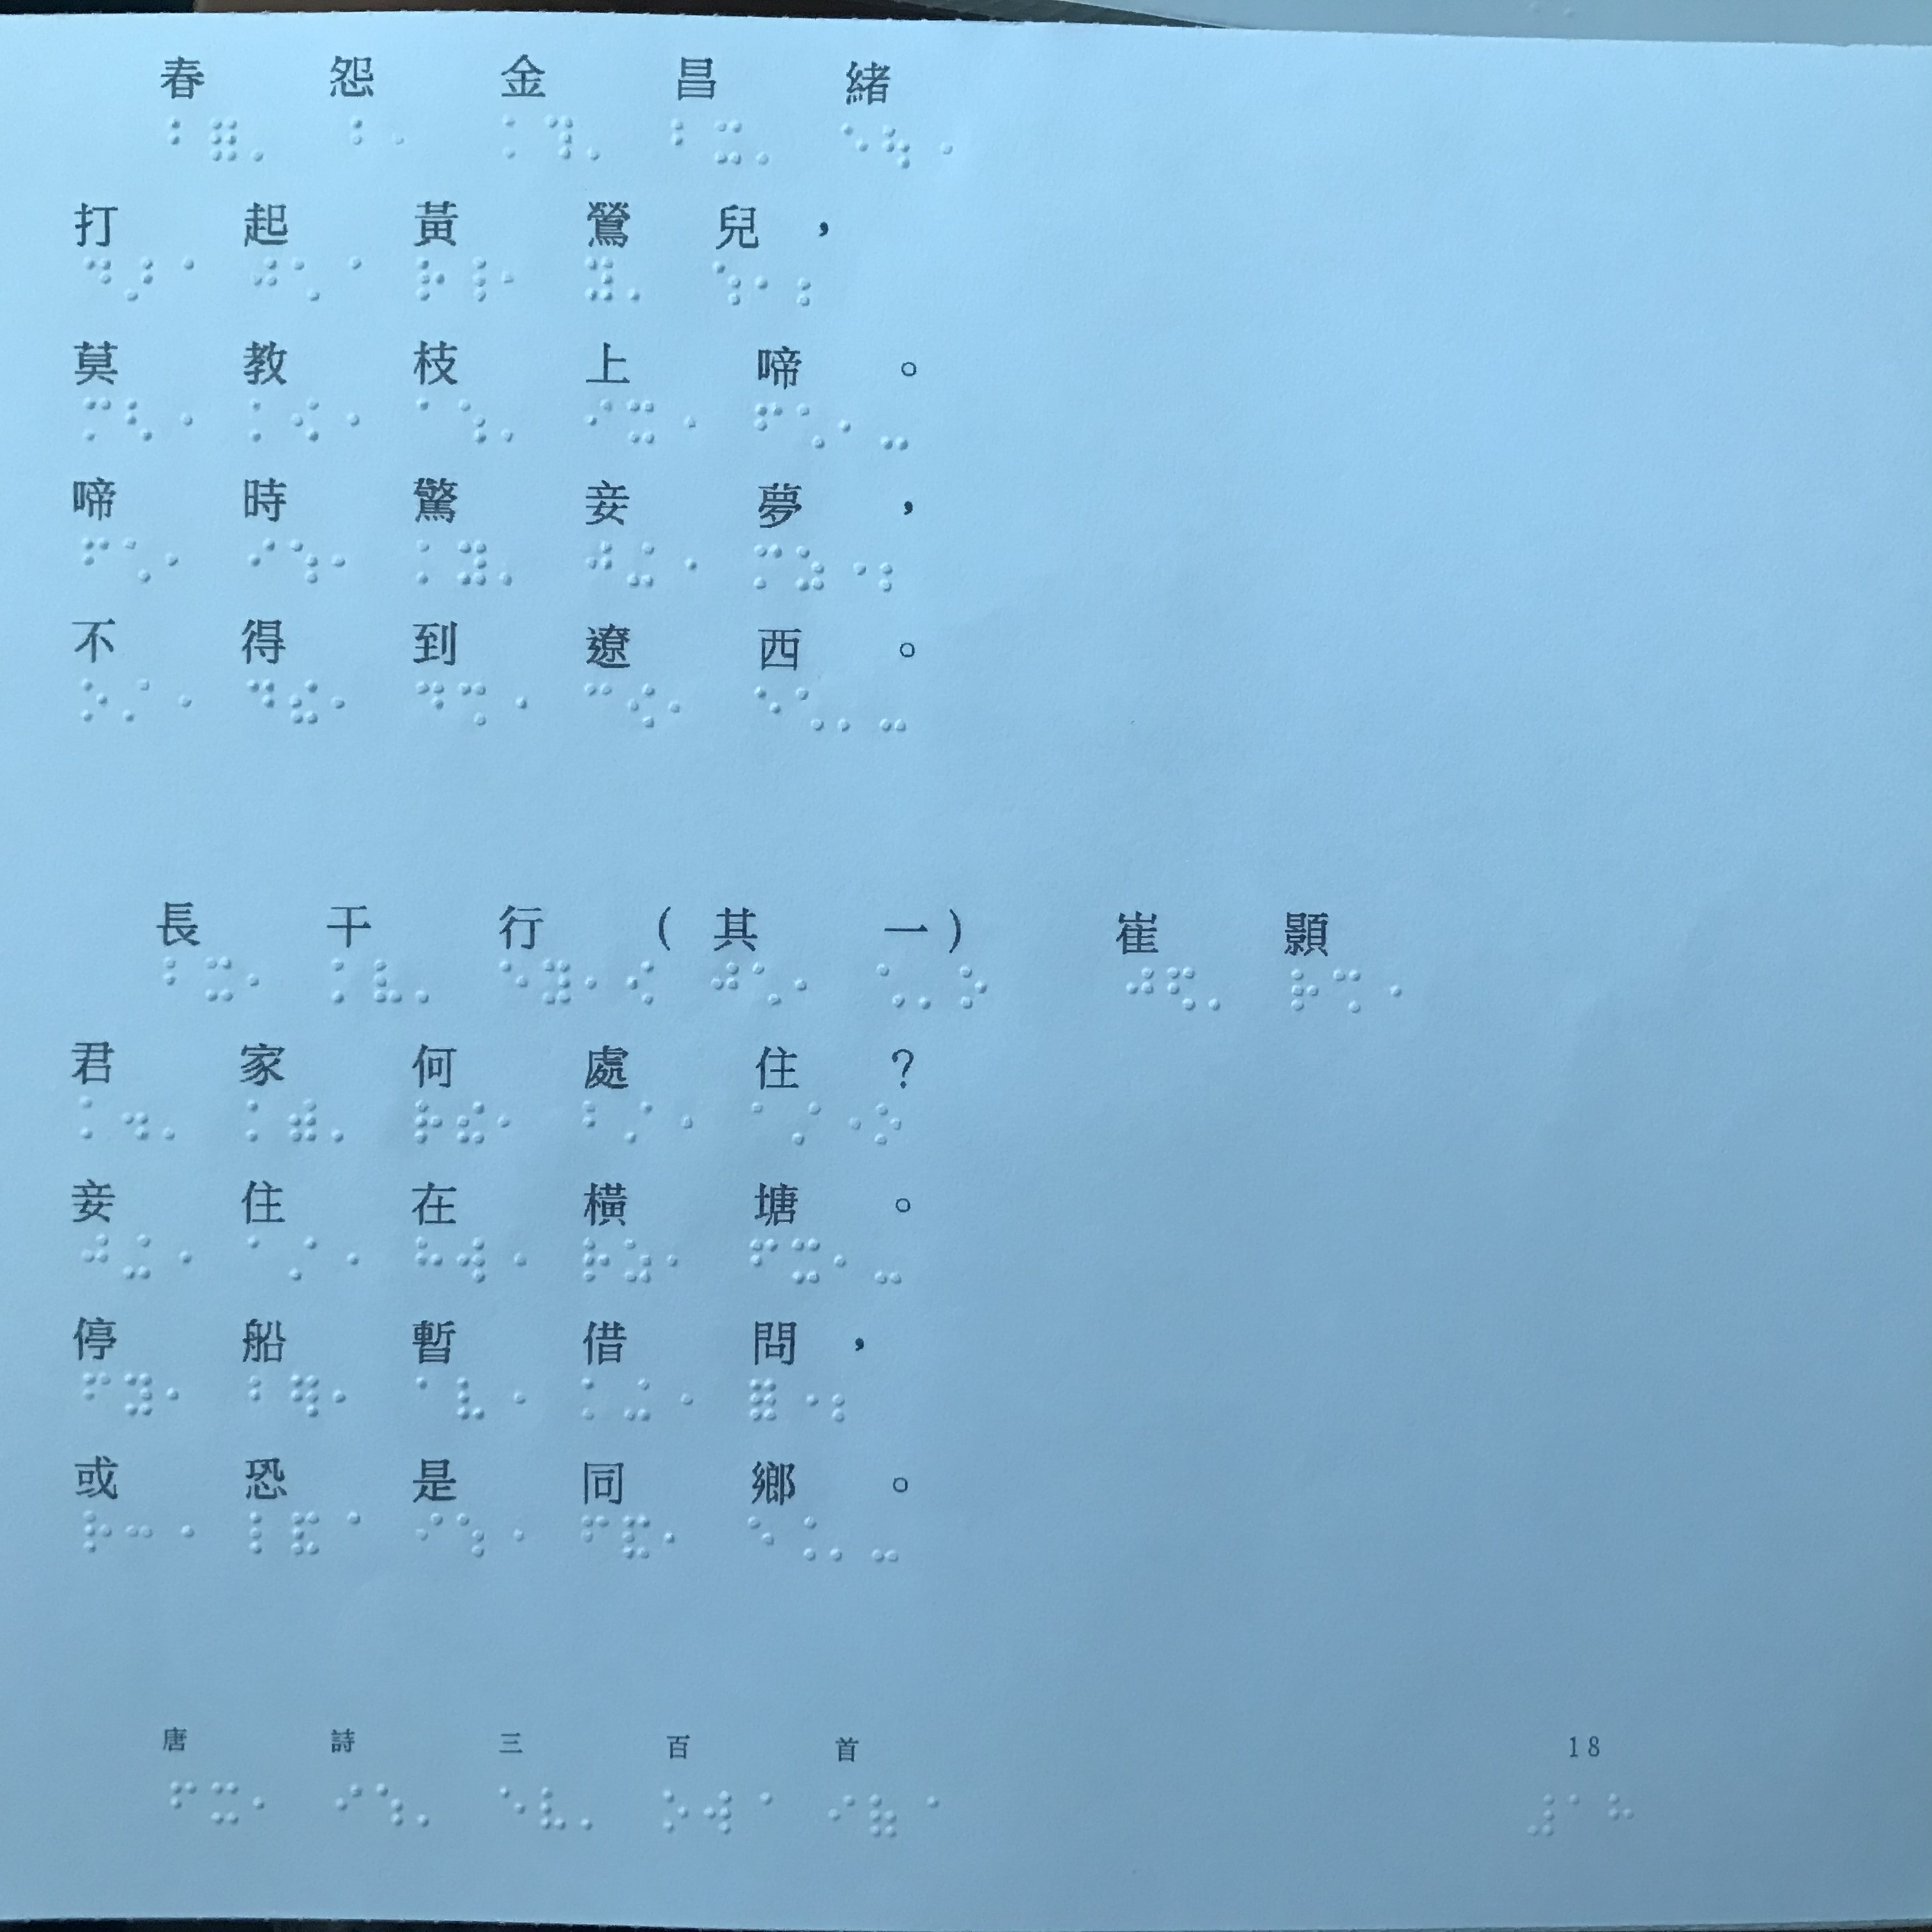Braille: (619, 1235, 656, 1288), (285, 1093, 320, 1146), (872, 1237, 908, 1290), (287, 1504, 322, 1557), (625, 393, 658, 448), (794, 541, 828, 596), (80, 1504, 113, 1559), (745, 1235, 782, 1284), (497, 1783, 534, 1833), (124, 389, 156, 446), (333, 1368, 364, 1424), (883, 122, 916, 175), (246, 531, 280, 584), (747, 1375, 780, 1428), (584, 1231, 614, 1290), (124, 1371, 159, 1421), (458, 536, 490, 591), (754, 681, 786, 736), (872, 1511, 904, 1566), (626, 536, 660, 587), (619, 1513, 653, 1564), (1522, 1794, 1559, 1840), (81, 1226, 111, 1283), (458, 1233, 488, 1290), (584, 253, 616, 306), (713, 255, 745, 308), (81, 391, 113, 444), (290, 676, 322, 729), (456, 1507, 488, 1560), (456, 396, 490, 446), (416, 1231, 444, 1290), (881, 400, 911, 455), (460, 676, 490, 731), (122, 1086, 152, 1141), (876, 1095, 906, 1150), (794, 1231, 824, 1286), (290, 255, 322, 306), (416, 255, 448, 306), (796, 260, 828, 311), (290, 395, 322, 446), (80, 533, 111, 584), (879, 543, 911, 594), (120, 676, 152, 727), (879, 683, 911, 734), (626, 957, 658, 1008), (711, 961, 743, 1012), (456, 1373, 488, 1424), (455, 1097, 488, 1145), (333, 395, 363, 448), (663, 1375, 694, 1428), (747, 1511, 777, 1564), (830, 1511, 860, 1564), (334, 1776, 364, 1829), (584, 395, 616, 444), (584, 679, 616, 729), (626, 679, 658, 729), (1288, 966, 1320, 1016), (329, 1507, 361, 1557), (755, 398, 784, 453), (798, 398, 826, 453), (333, 954, 361, 1008), (793, 955, 821, 1010), (1168, 957, 1196, 1012), (127, 1504, 156, 1559), (458, 255, 488, 306), (290, 536, 320, 587), (373, 954, 403, 1005), (543, 955, 573, 1007), (752, 1097, 782, 1148), (124, 1233, 154, 1284), (833, 1376, 863, 1428), (787, 1513, 817, 1564), (416, 396, 448, 444), (290, 1233, 322, 1281), (290, 1373, 322, 1421), (621, 1376, 653, 1424), (579, 1509, 610, 1557), (547, 110, 575, 163), (331, 536, 359, 589), (754, 957, 782, 1010), (165, 1233, 193, 1286), (209, 115, 239, 165), (418, 678, 448, 727), (205, 954, 235, 1003), (78, 1092, 108, 1141), (159, 1092, 189, 1141), (248, 1233, 278, 1283), (76, 676, 108, 722), (127, 533, 154, 587), (504, 676, 531, 731), (833, 1235, 860, 1290), (249, 255, 278, 306), (166, 395, 195, 446), (418, 536, 446, 587), (501, 538, 529, 589), (587, 536, 616, 587), (669, 678, 697, 729), (837, 683, 865, 734), (246, 952, 274, 1003), (957, 961, 985, 1012), (1127, 961, 1155, 1012), (1336, 964, 1364, 1016), (377, 1782, 405, 1833), (501, 113, 531, 161), (333, 255, 363, 303), (796, 686, 826, 734), (83, 1368, 113, 1415), (416, 1511, 446, 1559), (867, 1792, 897, 1840), (840, 543, 867, 596), (416, 955, 442, 1008), (499, 1097, 525, 1150), (501, 1235, 527, 1288), (127, 255, 156, 304), (248, 678, 276, 727), (1375, 966, 1403, 1016), (833, 1099, 862, 1148), (669, 1237, 697, 1286), (789, 1376, 817, 1426), (211, 1778, 239, 1828), (416, 1782, 444, 1831), (704, 1787, 732, 1836), (414, 1097, 444, 1143), (660, 1787, 690, 1833), (672, 396, 699, 448), (165, 533, 191, 584), (331, 676, 357, 727), (879, 959, 906, 1010), (1207, 961, 1233, 1012), (669, 1097, 695, 1148), (796, 1097, 823, 1148), (501, 1373, 527, 1424), (842, 396, 867, 451), (83, 253, 111, 301), (166, 255, 195, 303), (246, 1095, 274, 1143), (166, 1373, 195, 1421), (623, 1099, 653, 1143), (249, 1780, 280, 1824), (1569, 1789, 1599, 1833), (757, 119, 784, 168), (625, 255, 651, 304), (672, 538, 699, 587), (166, 678, 193, 727), (504, 955, 531, 1005), (584, 957, 610, 1007), (248, 1371, 274, 1421), (501, 1507, 525, 1560), (671, 115, 699, 161), (715, 119, 743, 165), (248, 396, 276, 442), (251, 1504, 276, 1555), (929, 124, 955, 172), (755, 543, 782, 591), (165, 950, 191, 998), (419, 1373, 446, 1421), (170, 111, 195, 161), (501, 255, 525, 304), (913, 961, 938, 1010), (584, 115, 610, 161), (584, 1099, 610, 1145), (334, 1237, 361, 1283), (168, 1509, 195, 1555), (338, 117, 366, 159), (828, 1792, 856, 1835), (504, 398, 529, 446), (755, 262, 782, 306), (584, 1376, 610, 1421), (663, 1516, 690, 1560), (170, 1780, 196, 1824), (913, 1792, 939, 1836), (1608, 1792, 1635, 1836), (840, 124, 869, 165), (745, 1792, 773, 1833), (333, 1097, 357, 1143), (543, 1785, 568, 1831), (382, 113, 405, 161), (580, 1787, 605, 1831), (253, 117, 276, 163)
